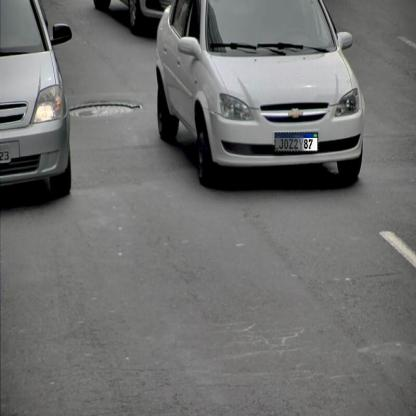PlacaM: (275, 132, 318, 152)
